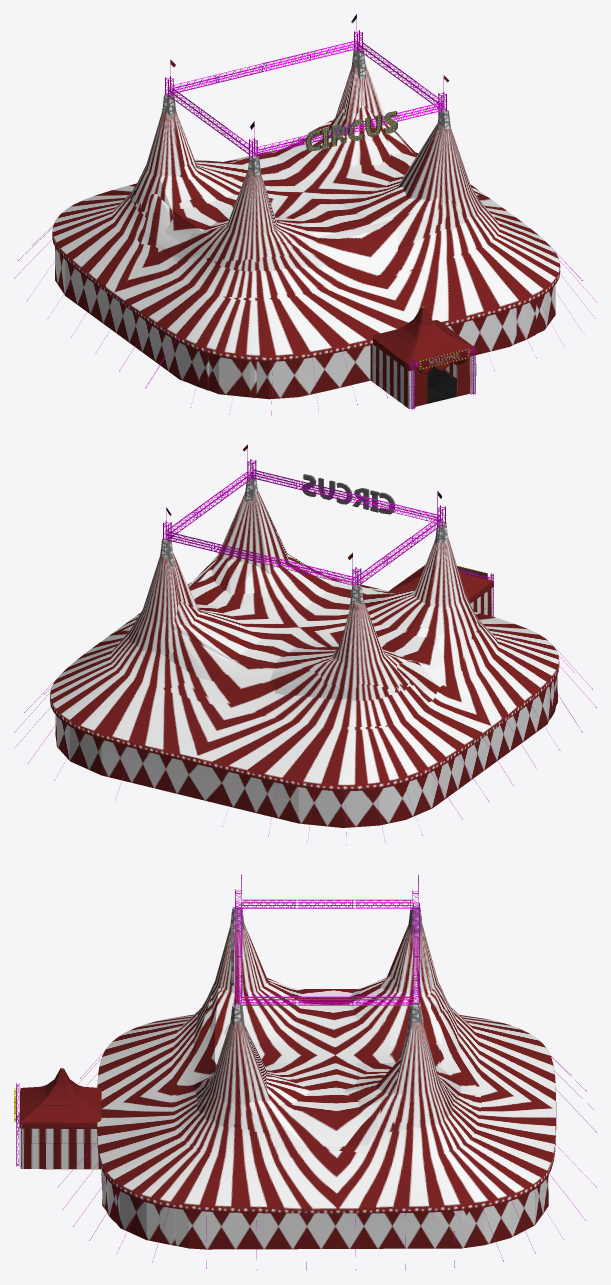
Rendered from Circus_LOD2.fbx.
The picture shows the model from 3 angles, top to bottom: view 1: azimuth 30°, elevation 25°; view 2: azimuth 150°, elevation 25°; view 3: azimuth 270°, elevation 25°; orthographic projection. The views are drawn at different scales.
Visible parts, largest first — view 1: Circus, Circus_Metal; view 2: Circus, Circus_Metal; view 3: Circus, Circus_Metal.
Boxes of the visible parts, x1,y1,x2,y2 form: Circus: [52, 14, 560, 408]; Circus_Metal: [14, 14, 596, 415]; Circus: [50, 445, 559, 827]; Circus_Metal: [14, 444, 596, 845]; Circus: [16, 875, 556, 1249]; Circus_Metal: [16, 874, 596, 1270].
Bounding box in the file's own units: 5302 × 2557 × 5725.
3 materials, 1 textured.
